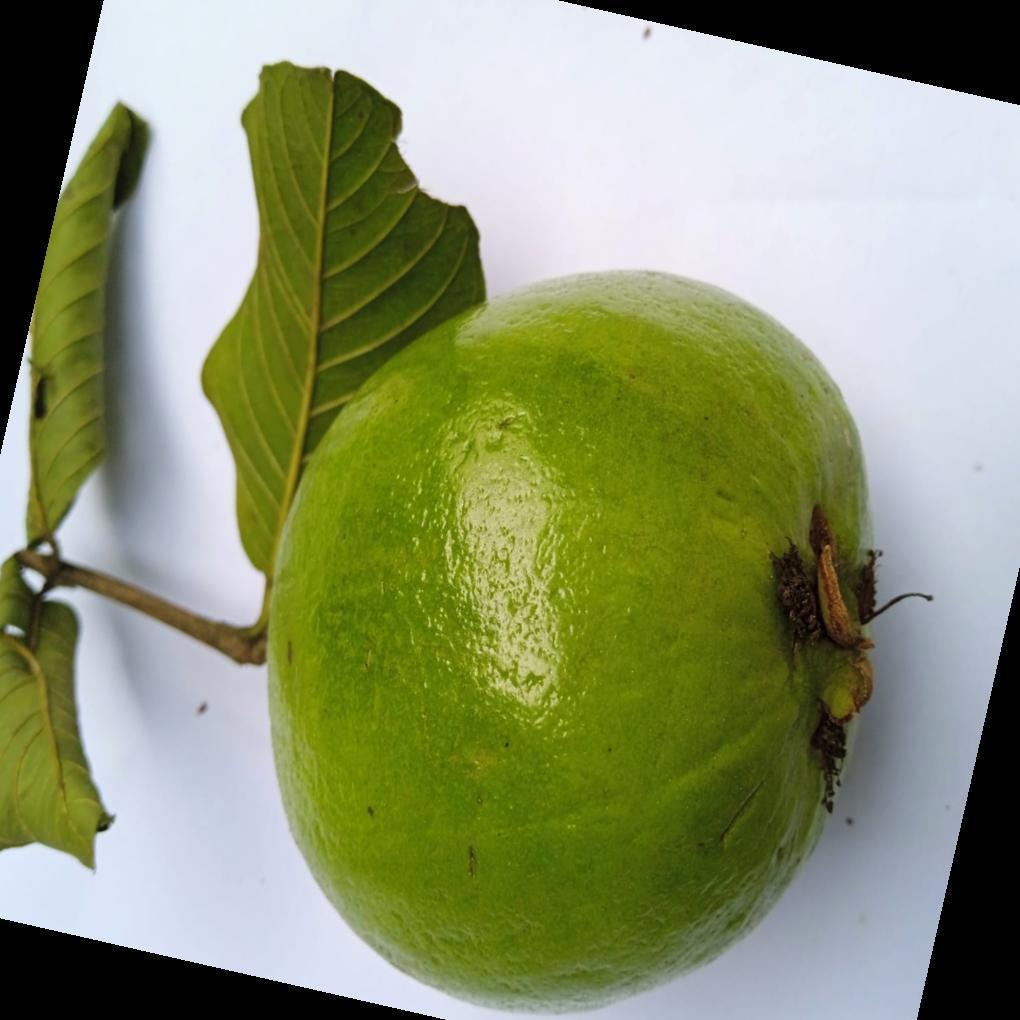FreshGuava: (258, 270, 881, 1018)
